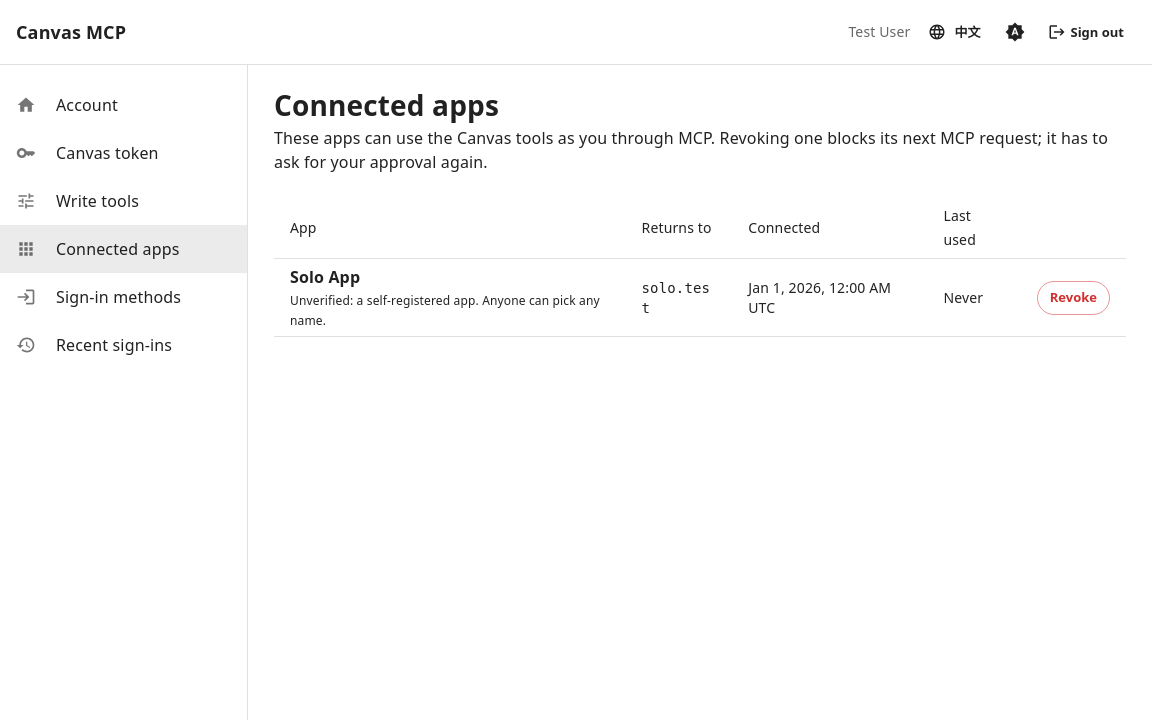
Test: Connected apps › shows the closed message in the dialog when the revoke fails, and keeps the app listed
Click the button with aria-label "Revoke: Solo App" at (1073, 298), box [1037,281,1110,315]
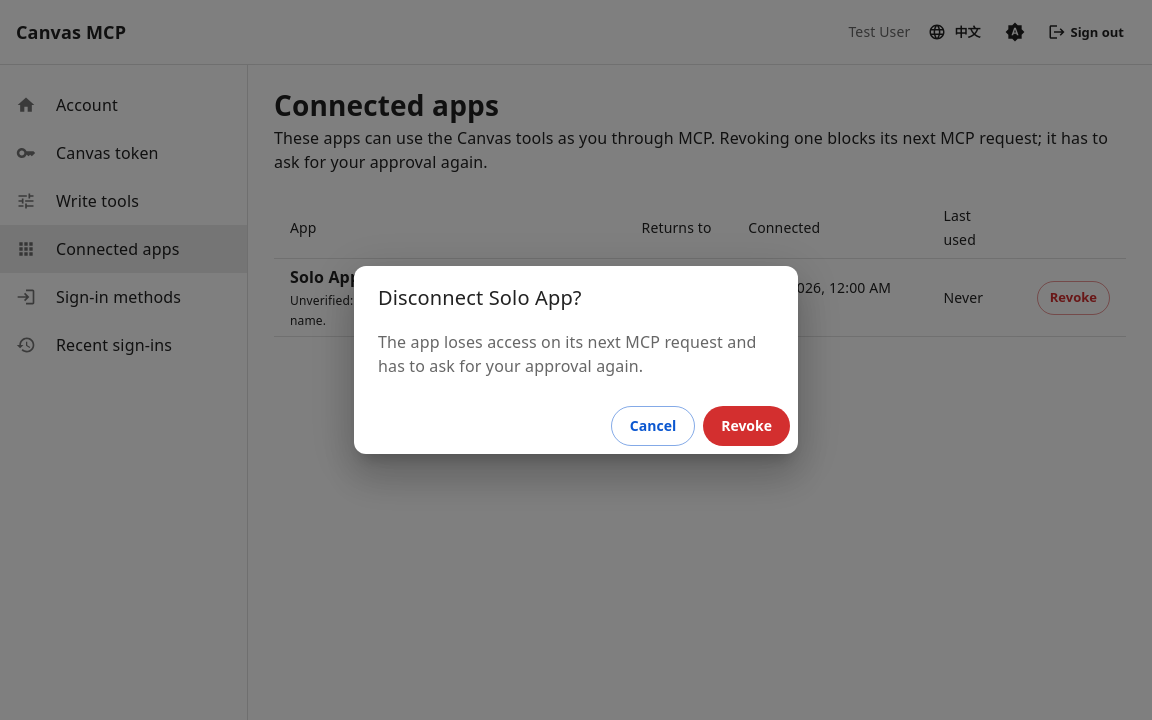
Click the button "Revoke" at (747, 426), box [703,406,790,446]
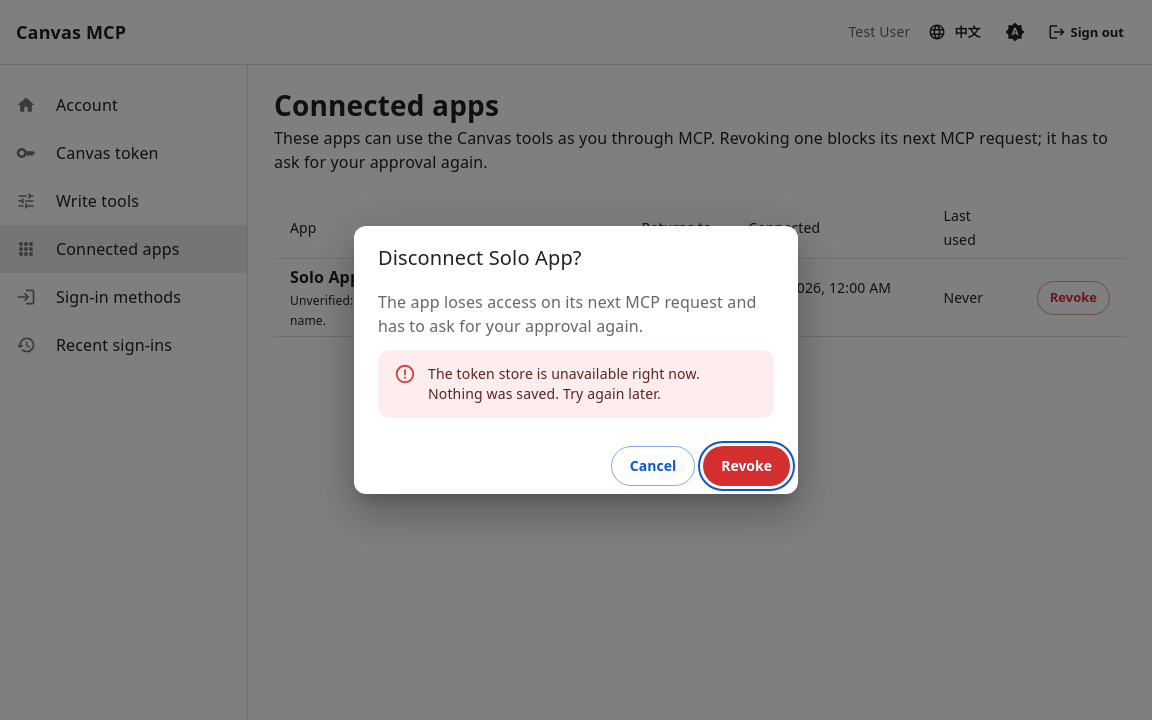
Expected: the text "Solo App" is shown, [290,265,360,289]
Expected: the message shows "token store is unavailable", [428,364,700,403]
